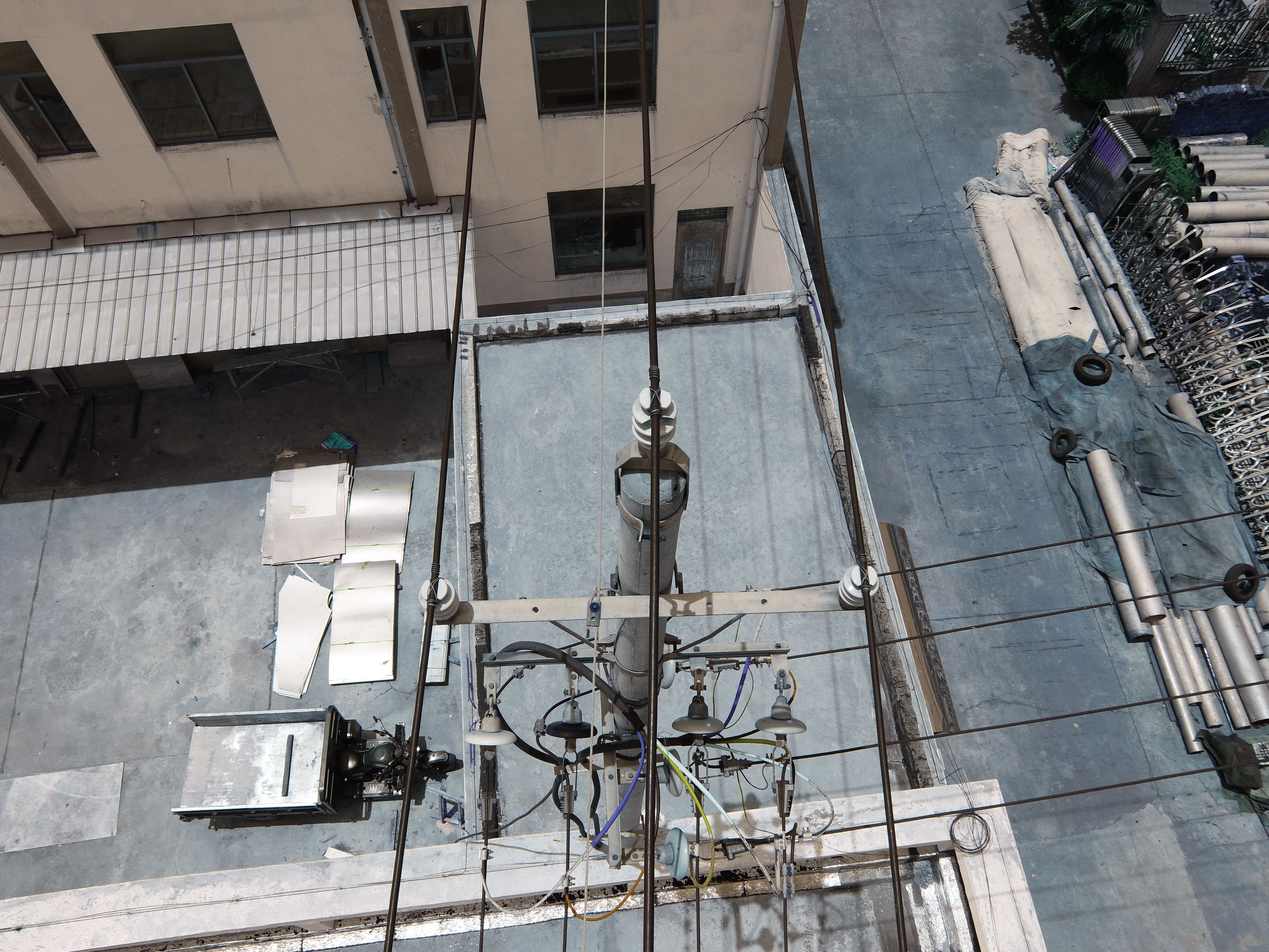severe_soiling_no_discharge_whole: (656, 823, 692, 883)
